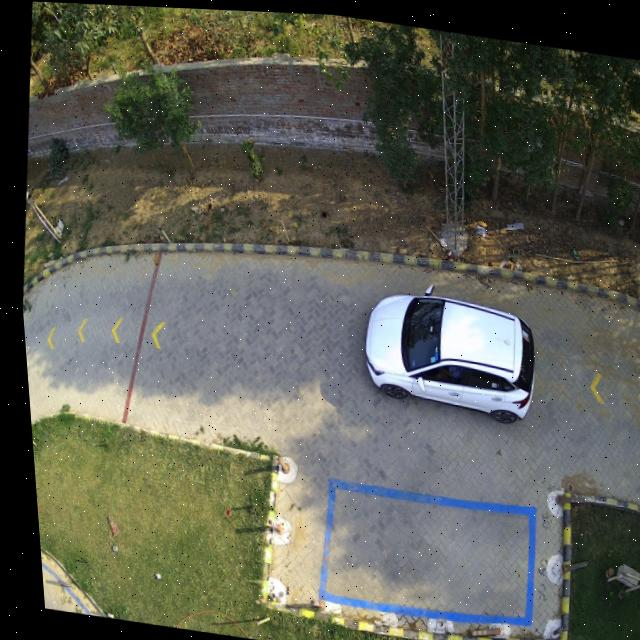car: (359, 289, 529, 418)
